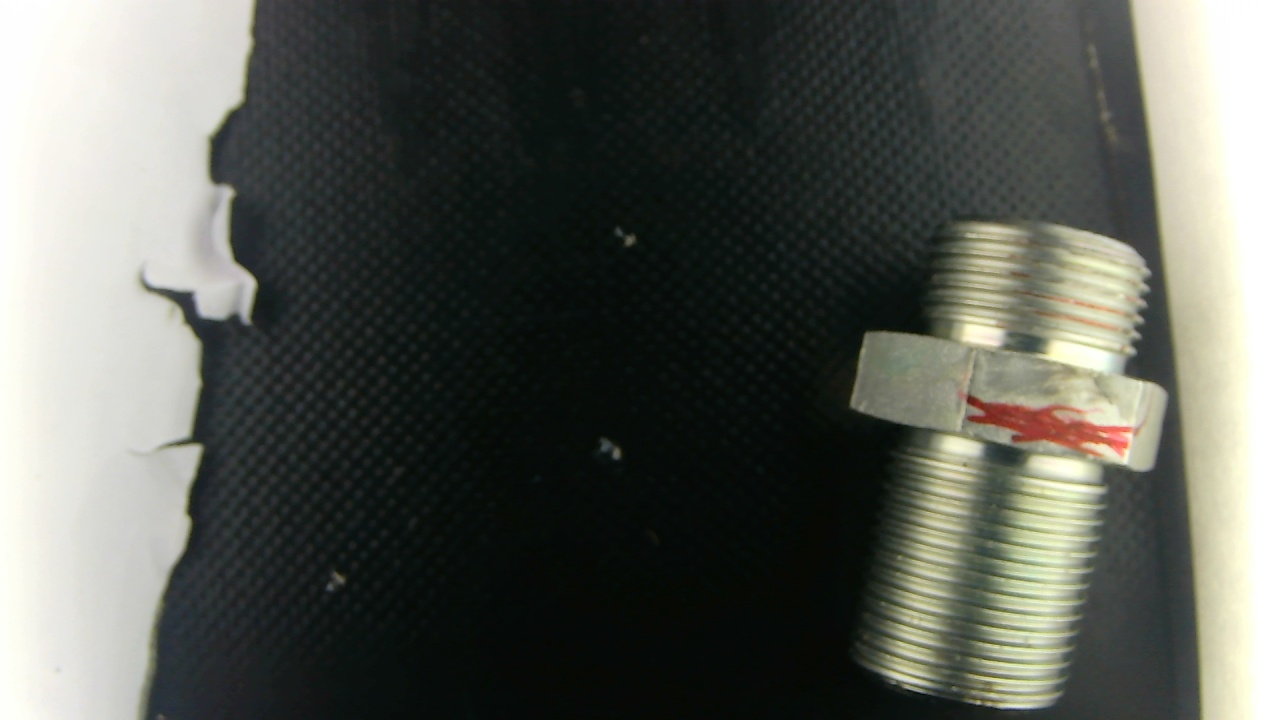blackpatch: (967, 346, 1157, 428)
